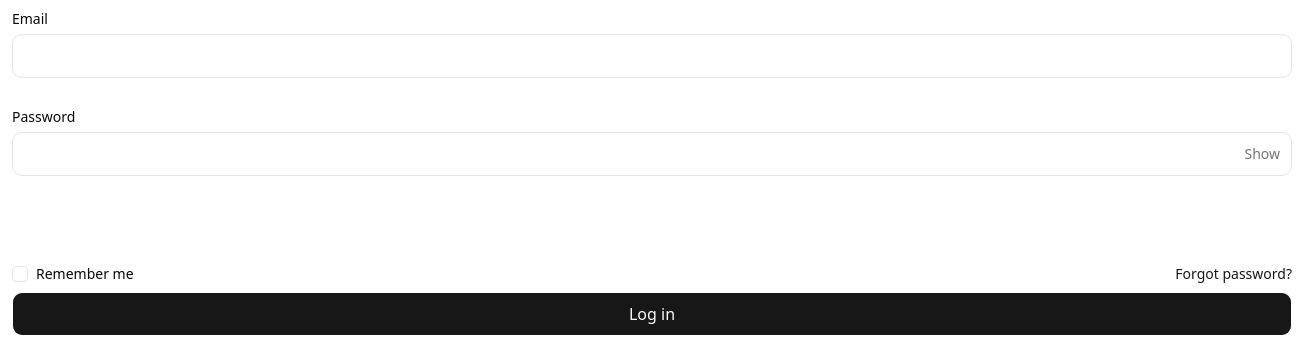
Test case: LoginForm › toggles password visibility
Type "password" into the password field labelled "Password".
click(652, 154); type("password")  # box [12,132,1292,176]
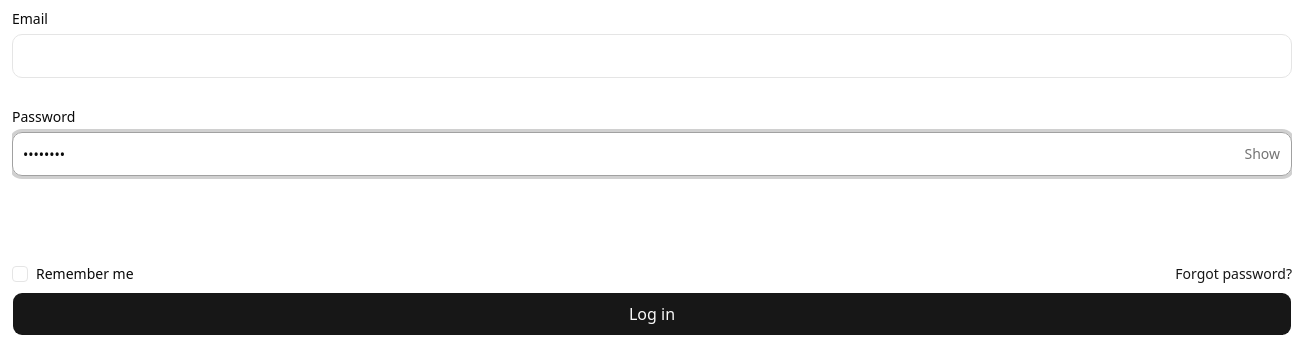
Click the button with aria-label "show password".
click(1262, 154)  # box [1244,132,1280,176]
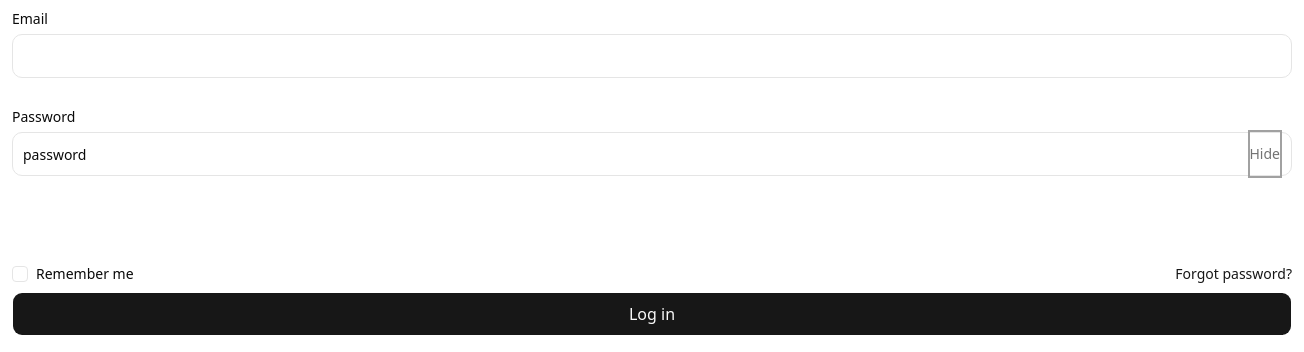
Expected: the field labelled "Password" shows its text, [12,132,1292,176]
Click the button with aria-label "hide password".
click(1265, 154)  # box [1250,132,1280,176]
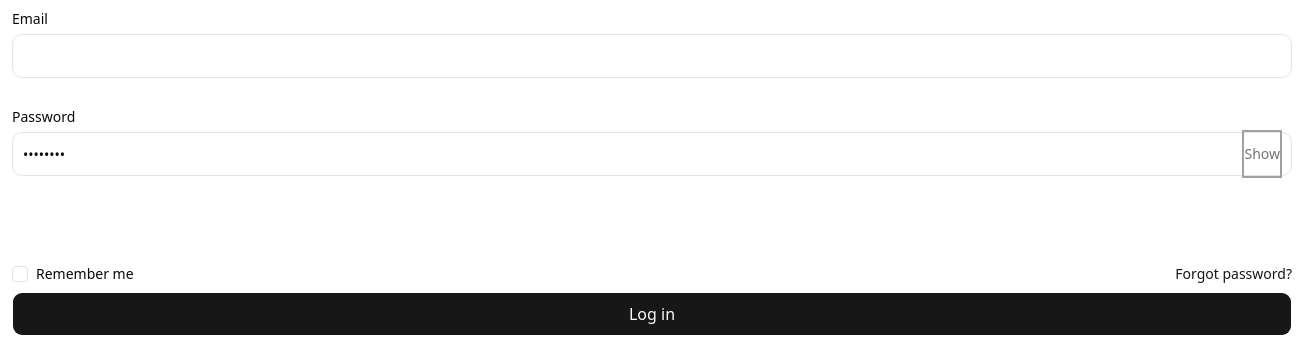
Expected: the password field labelled "Password" hides its text, [12,132,1292,176]
